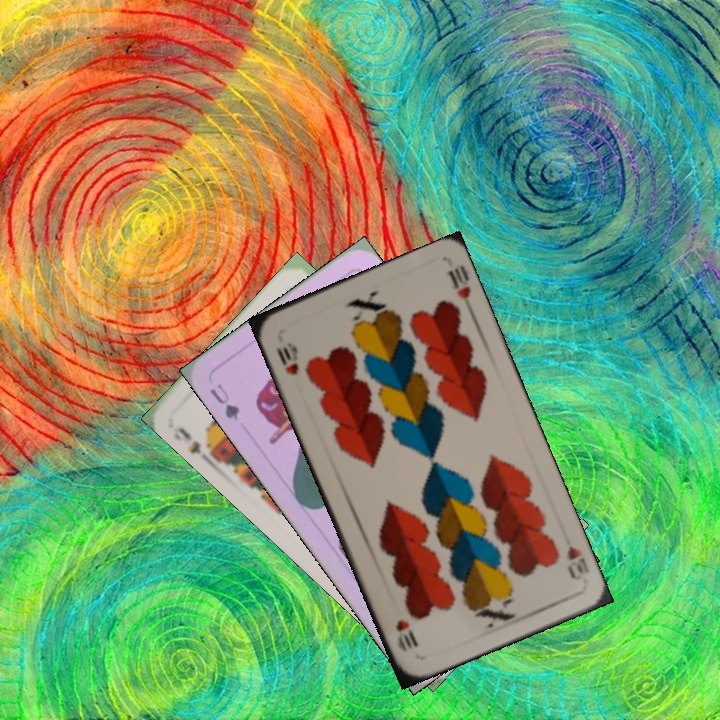GU: (205, 379, 243, 423)
H10: (562, 541, 592, 582), (272, 338, 301, 378)
S9: (175, 423, 219, 467)
